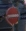No entry: (5, 5, 21, 26)
